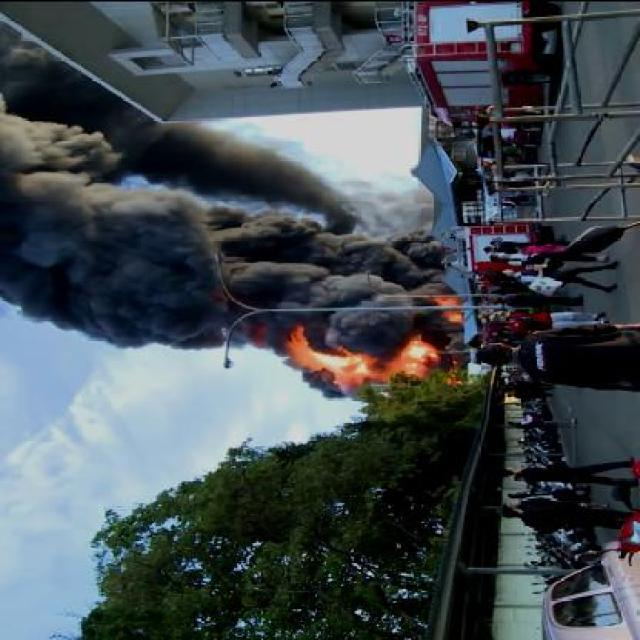Fire: (283, 293, 469, 402)
Smoke: (0, 74, 283, 353)
